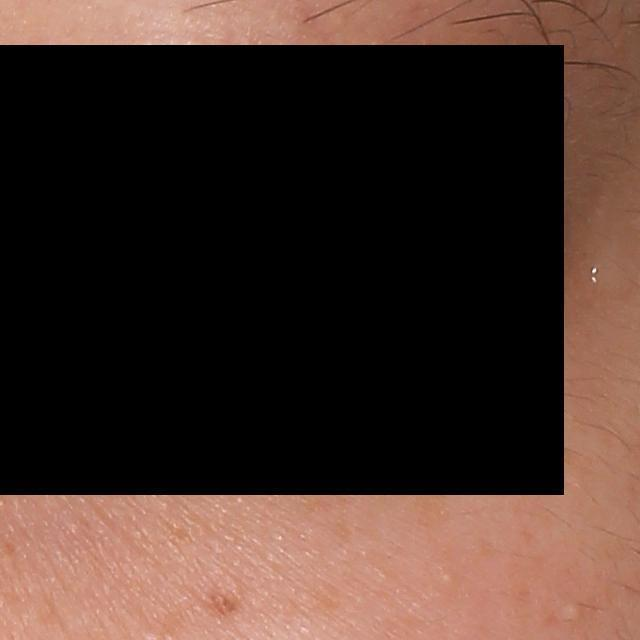melasma: (408, 478, 455, 531), (293, 483, 360, 517), (192, 582, 240, 617)
